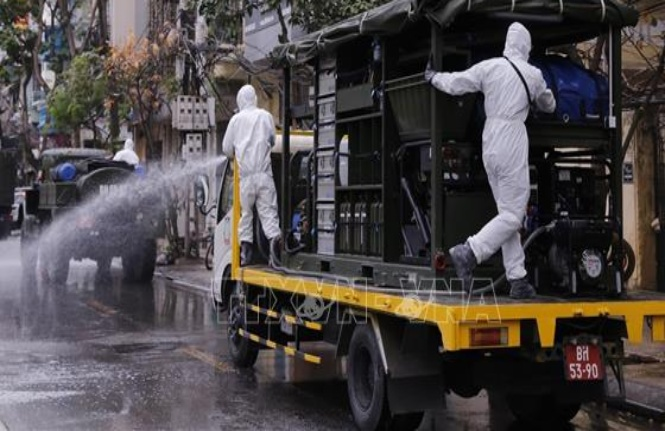plate: (562, 342, 602, 379)
